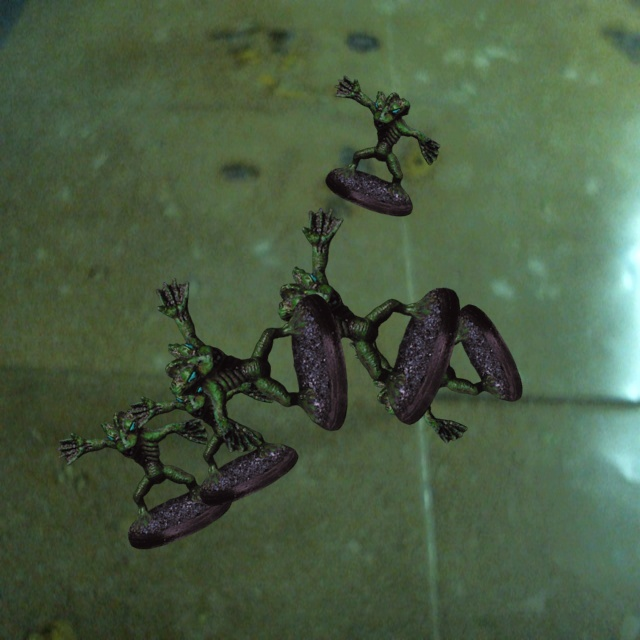pieza_juego: (278, 208, 459, 424), (156, 278, 347, 452), (57, 408, 231, 548), (349, 304, 522, 443), (128, 370, 298, 505), (325, 75, 439, 216)
